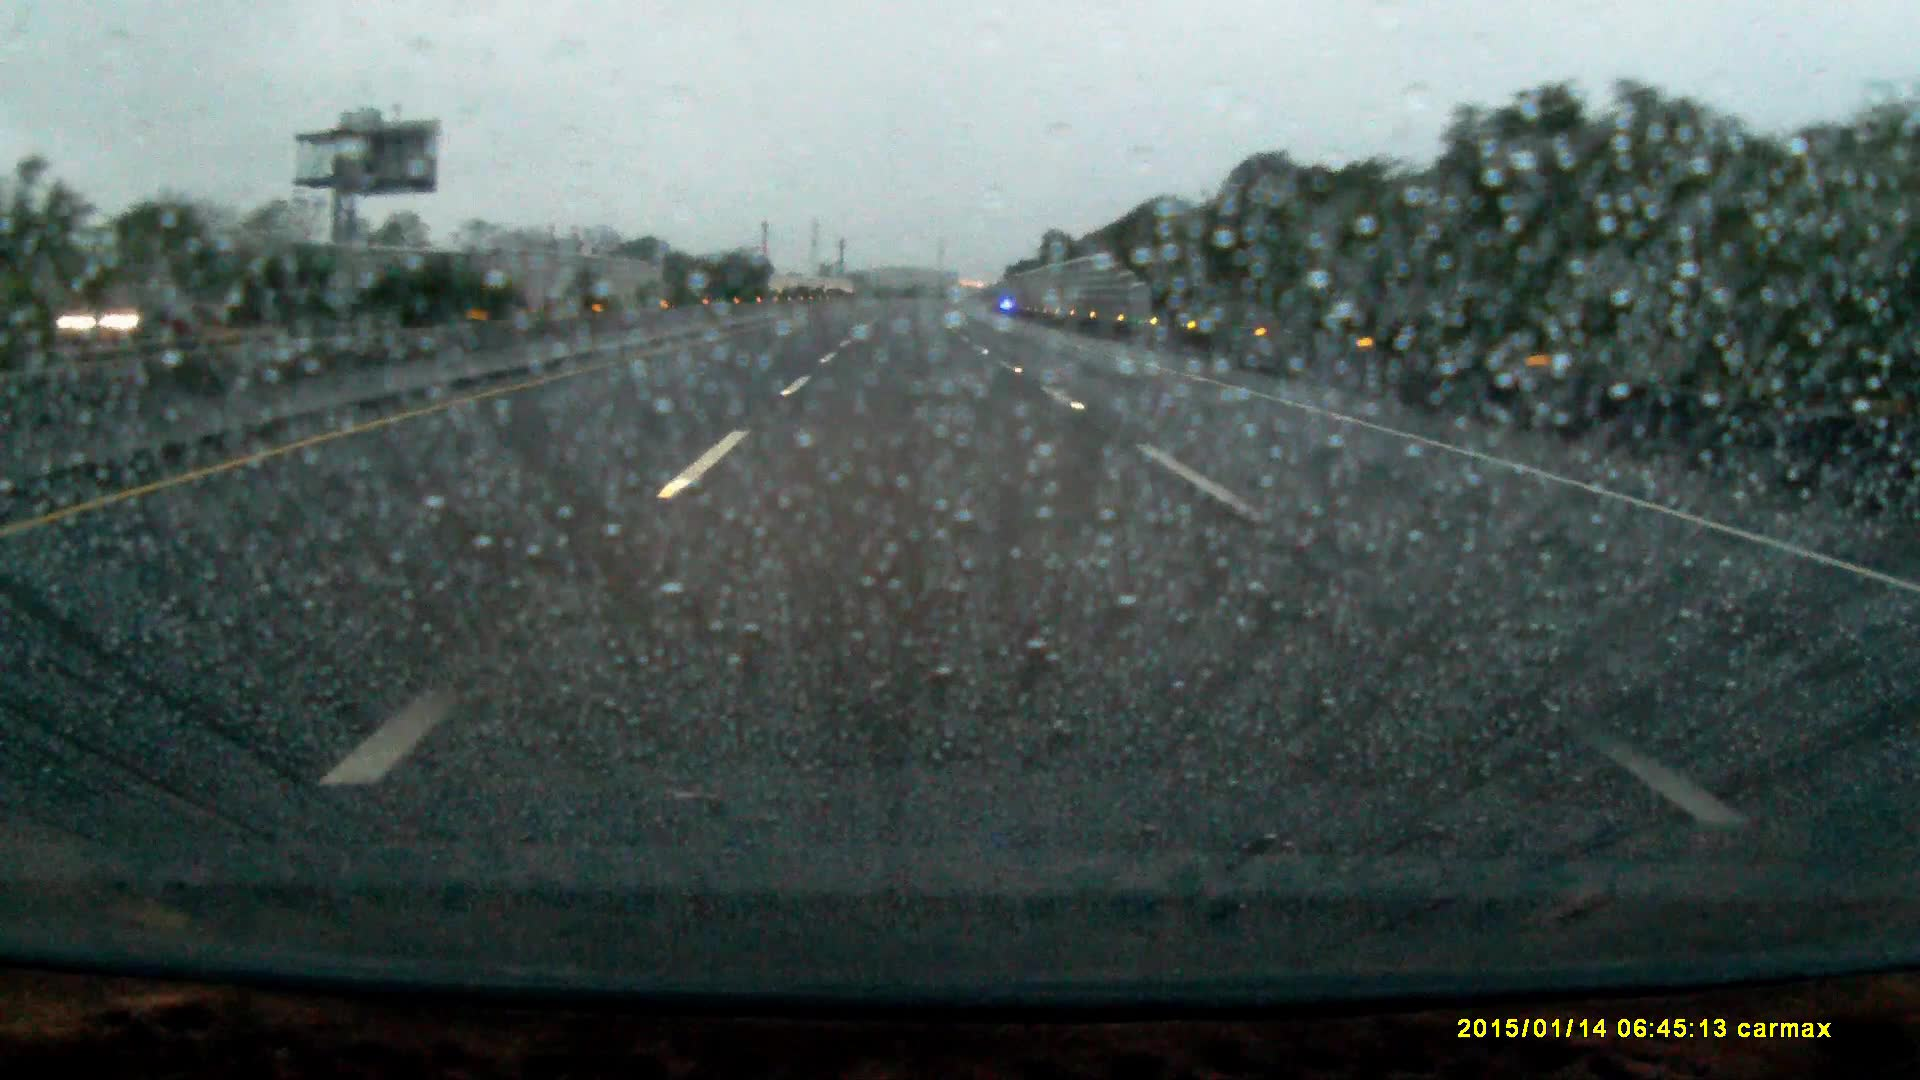vehicle: (58, 280, 196, 344)
